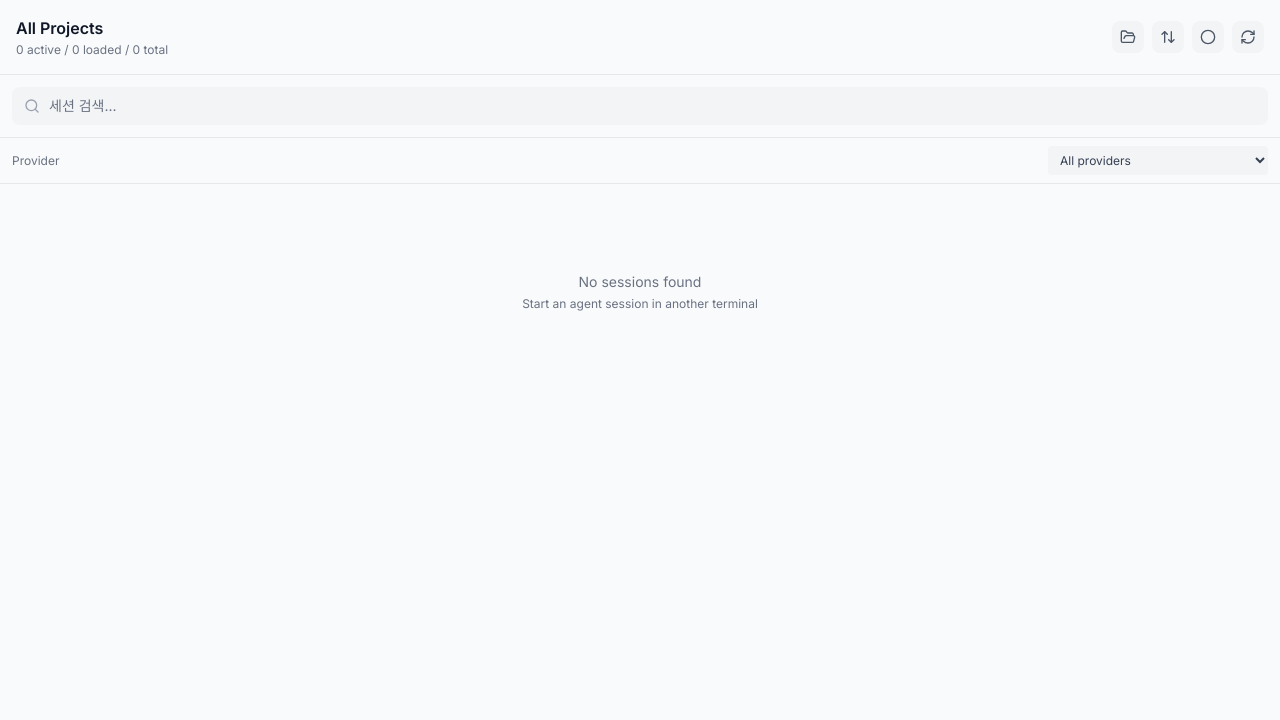
Test: SessionList › project filter dropdown › closes project menu on outside click
Click the button titled "프로젝트 필터" at (1128, 37), box [1112,21,1144,53]
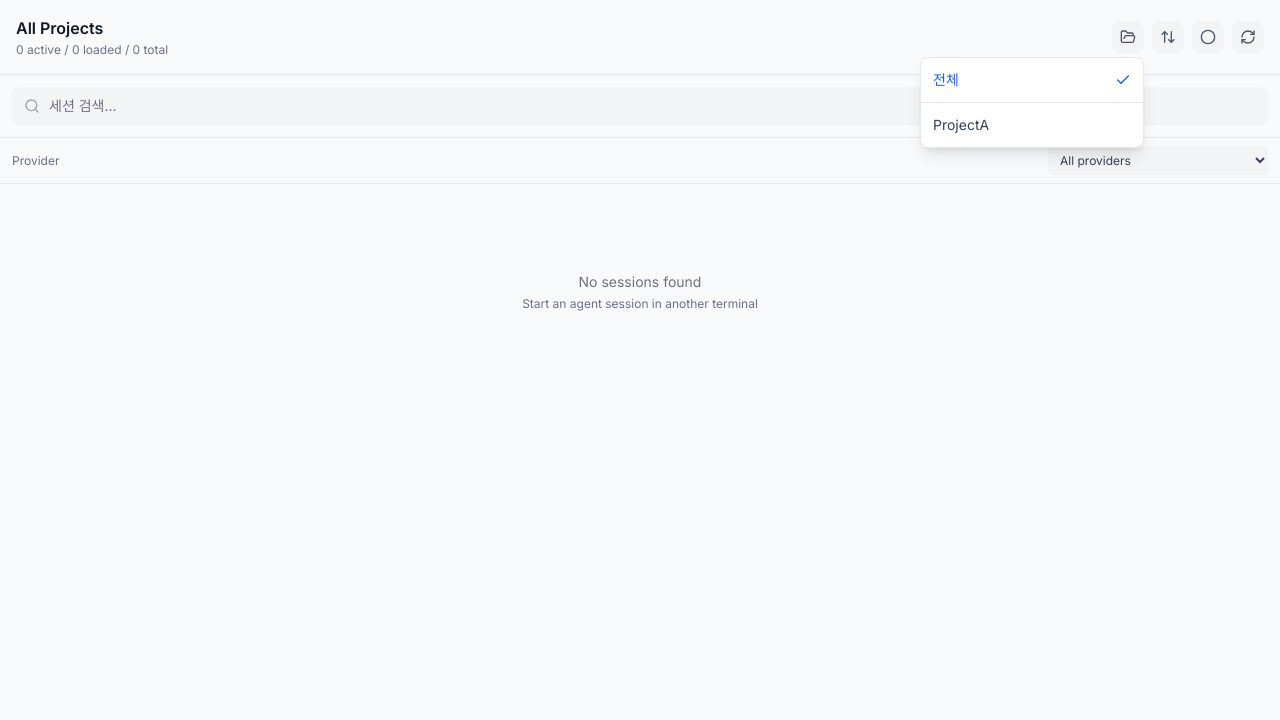
expect the text "ProjectA" is shown: met, box [933,115,989,135]
Press the mouse on the element that starts with "All Projects" at (640, 360), box [0,0,1279,719]
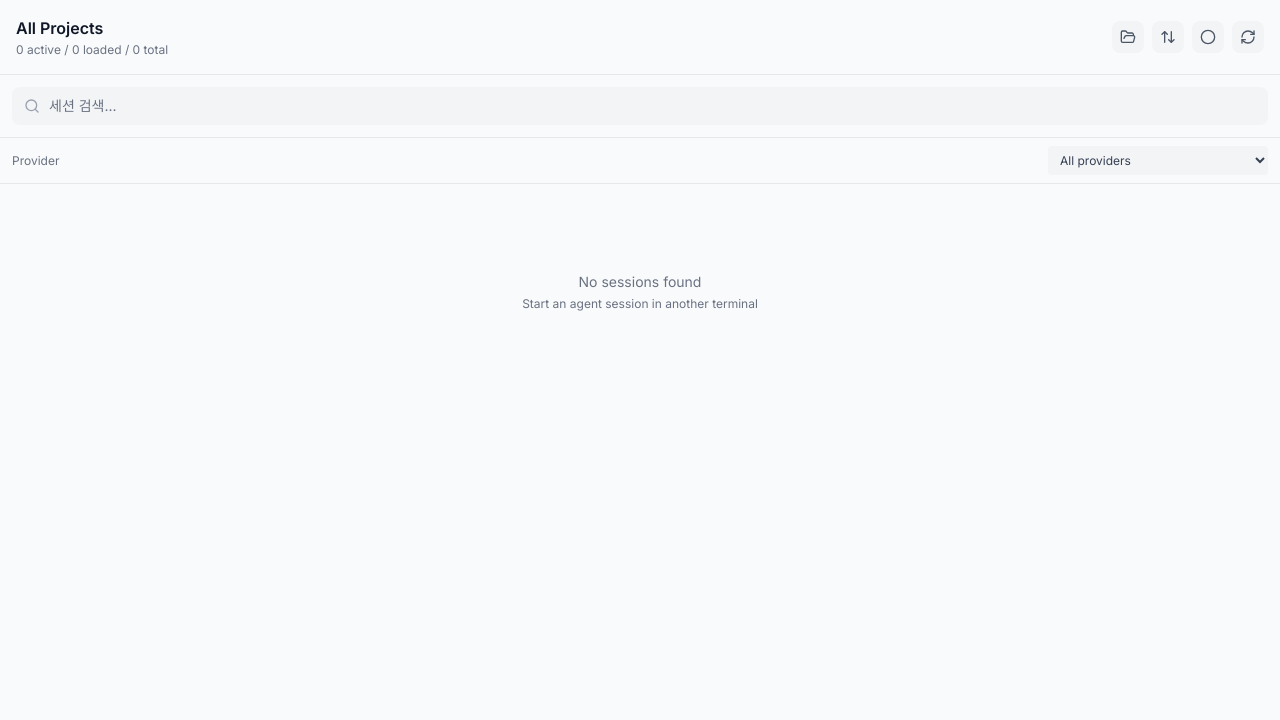
expect the button "ProjectA" is gone: met
